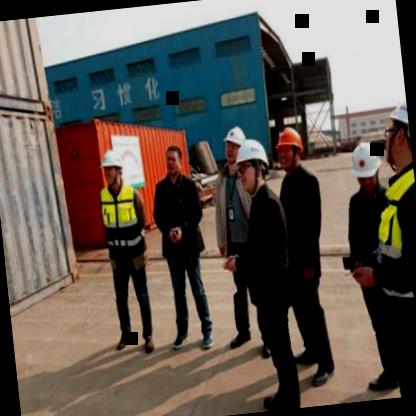head: (158, 140, 186, 180)
helmet: (375, 89, 413, 173), (232, 135, 272, 194), (348, 135, 385, 194), (272, 123, 308, 170), (98, 144, 127, 190), (220, 122, 248, 164)
